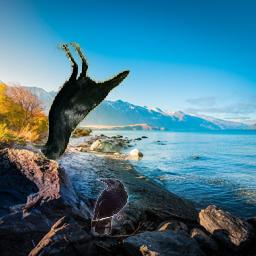Crow: (30, 42, 130, 160), (91, 179, 129, 236)
